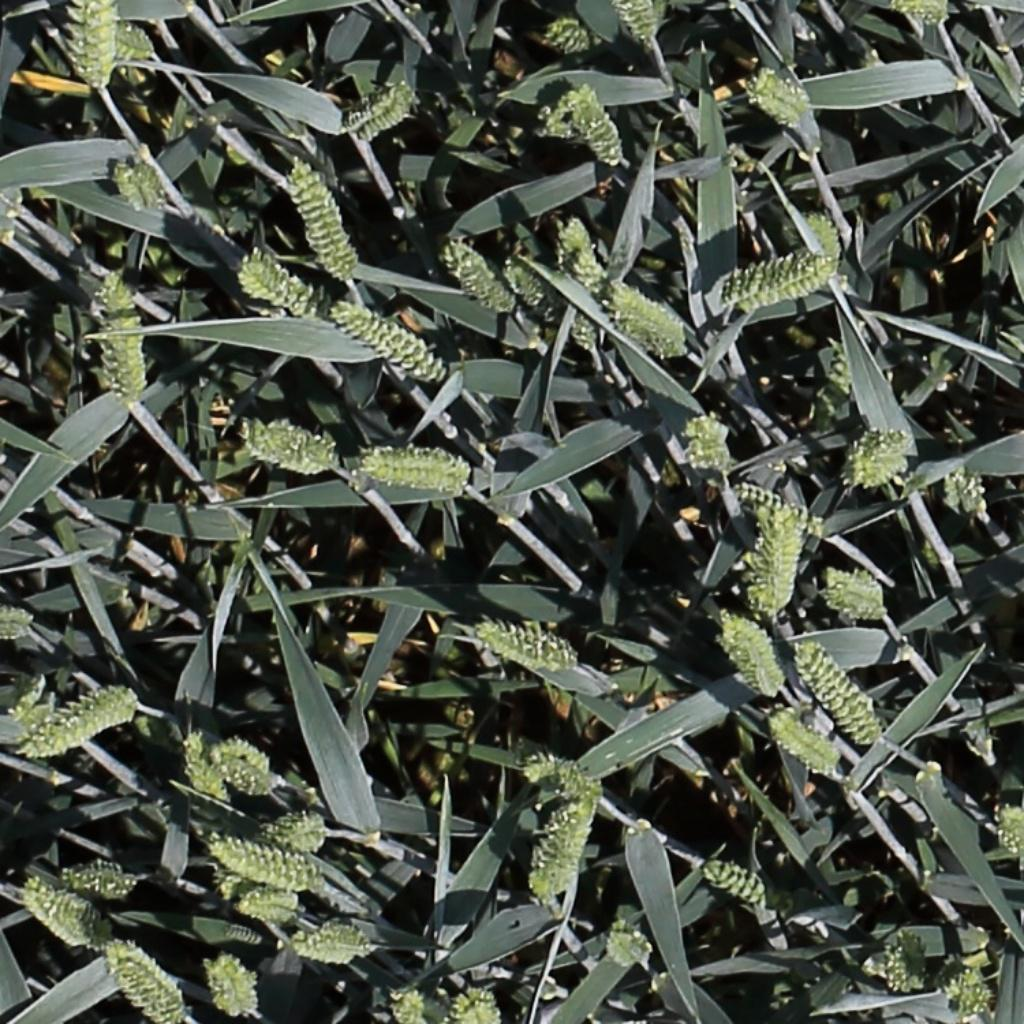0-0: (455, 610, 601, 693), (9, 683, 142, 765), (798, 640, 886, 749), (598, 280, 698, 370), (524, 788, 608, 894), (335, 300, 446, 379), (742, 508, 821, 616), (553, 212, 611, 356), (103, 934, 194, 1024), (347, 441, 477, 502), (741, 66, 829, 156), (231, 412, 345, 481), (288, 162, 356, 277), (713, 249, 841, 310), (200, 826, 318, 892), (831, 419, 927, 494), (96, 266, 146, 401), (810, 336, 867, 451), (719, 613, 783, 701), (20, 873, 98, 944), (442, 241, 517, 314), (288, 916, 385, 972), (65, 0, 125, 89), (174, 724, 234, 809), (207, 732, 284, 797), (572, 77, 626, 169), (204, 950, 271, 1024), (736, 479, 826, 533), (238, 260, 326, 315), (506, 255, 569, 322), (770, 714, 839, 775), (679, 411, 741, 477), (699, 858, 778, 907), (61, 856, 142, 899), (942, 964, 999, 1024), (793, 204, 849, 265), (883, 926, 934, 992), (539, 15, 613, 60), (345, 84, 409, 136), (903, 540, 968, 589), (109, 152, 157, 217), (519, 746, 596, 786), (259, 810, 332, 851), (827, 569, 898, 611), (946, 460, 991, 525), (231, 887, 314, 920), (607, 922, 648, 968), (611, 0, 659, 37), (996, 804, 1024, 865), (110, 24, 157, 57), (0, 605, 41, 642), (468, 985, 506, 1024), (0, 185, 23, 246), (394, 983, 427, 1024), (217, 924, 267, 946), (441, 988, 471, 1024), (903, 0, 948, 23)
